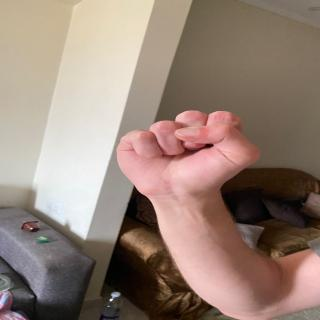SAD: (115, 105, 268, 193)
